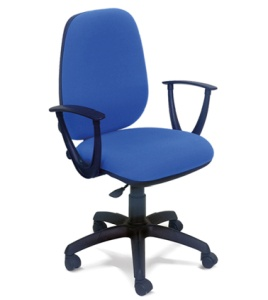chair: (48, 8, 219, 296)
